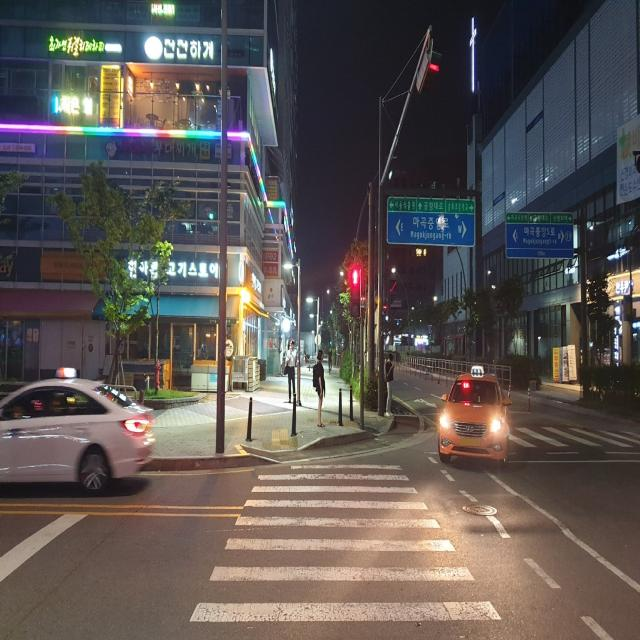빨간불: (349, 268, 364, 320)
횡단보도: (188, 462, 504, 626)
